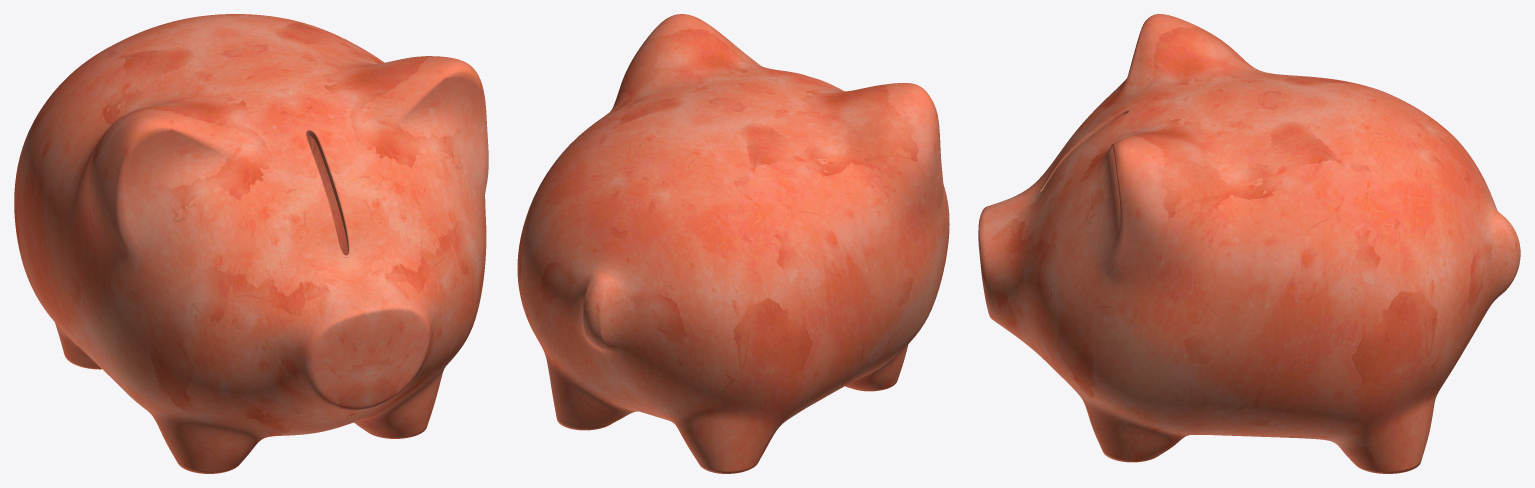
The picture shows the model from 3 angles, left to right: view 1: azimuth 30°, elevation 25°; view 2: azimuth 150°, elevation 25°; view 3: azimuth 270°, elevation 25°; orthographic projection. The views are drawn at different scales.
Parts seen in each view (by area): view 1: PiggyBank - 15; view 2: PiggyBank - 15; view 3: PiggyBank - 15.
Boxes of the visible parts, x1,y1,x2,y2 form: PiggyBank - 15: (14, 14, 488, 473); PiggyBank - 15: (517, 14, 949, 473); PiggyBank - 15: (978, 14, 1520, 473).
Bounding box in the file's own units: 0.0203 × 0.0181 × 0.027.
1 material, 1 textured.
